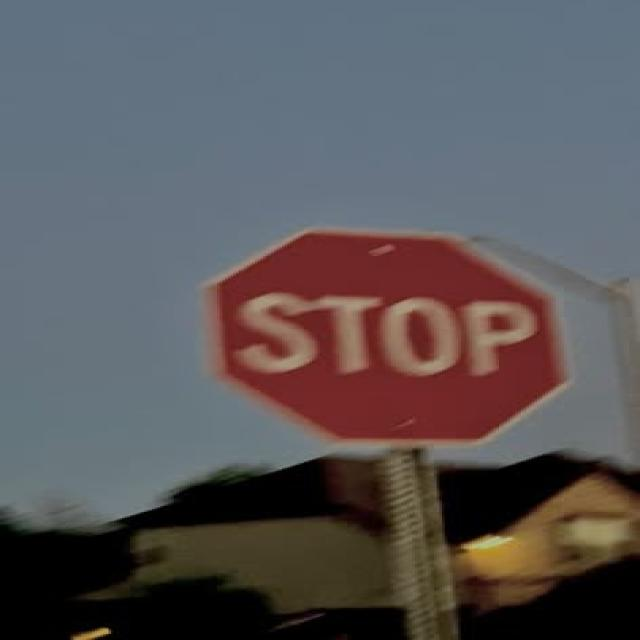STOP: (206, 230, 567, 446)
